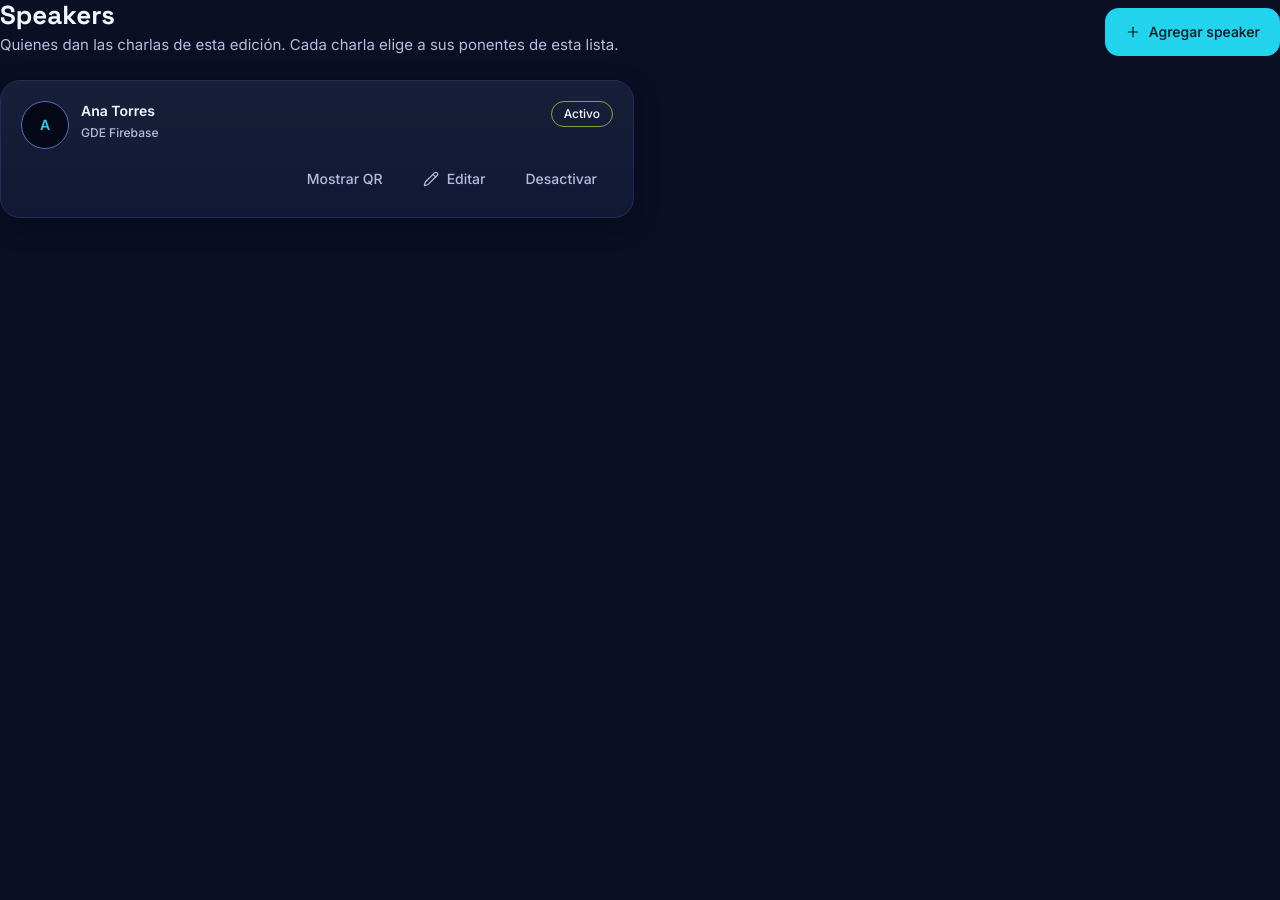
Test: SpeakersAdminView › edits a speaker keeping the photo untouched, and shows a refusal inside the dialog
The image size is (1280, 900).
What coordinates should you click on to do the following:
click the button "Editar"
I would click on:
 (454, 179)
Its box is [407,161,502,197].
(page scrolled)
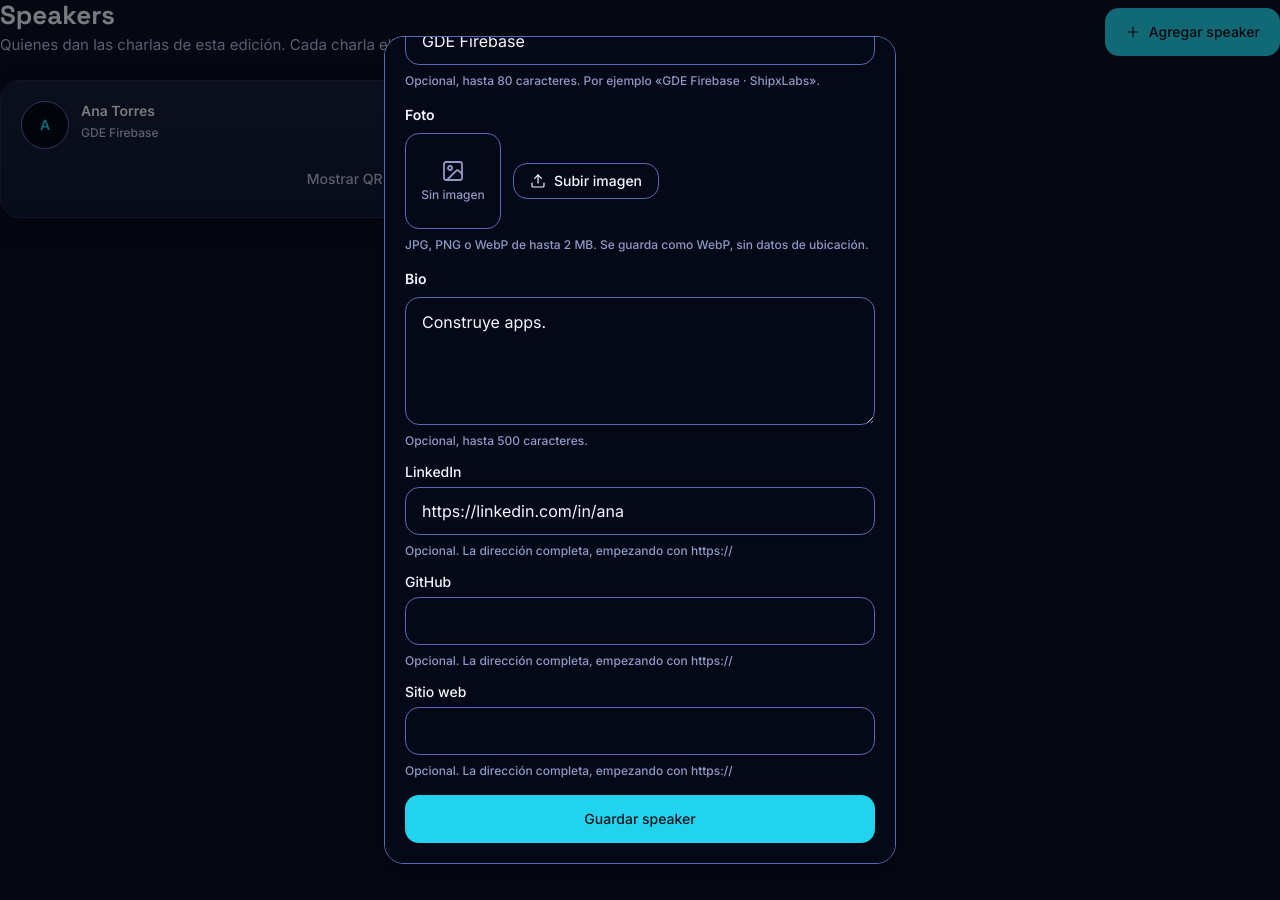
What coordinates should you click on to do the following:
click the button "Guardar speaker"
I would click on:
 (640, 819)
Its box is [405,795,875,843].
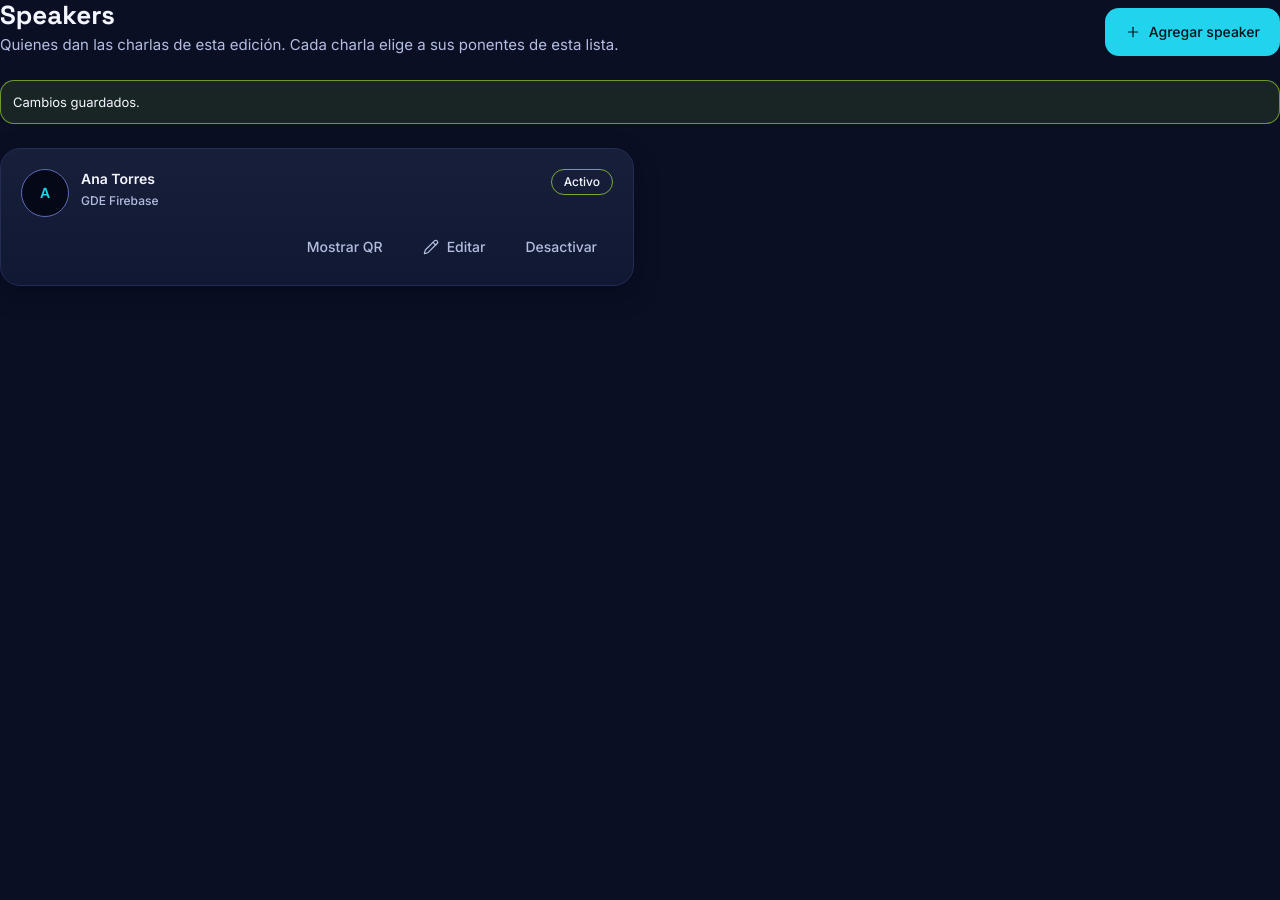
What coordinates should you click on to do the following:
click the button "Editar"
I would click on:
 (454, 247)
Its box is [407,229,502,265].
(page scrolled)
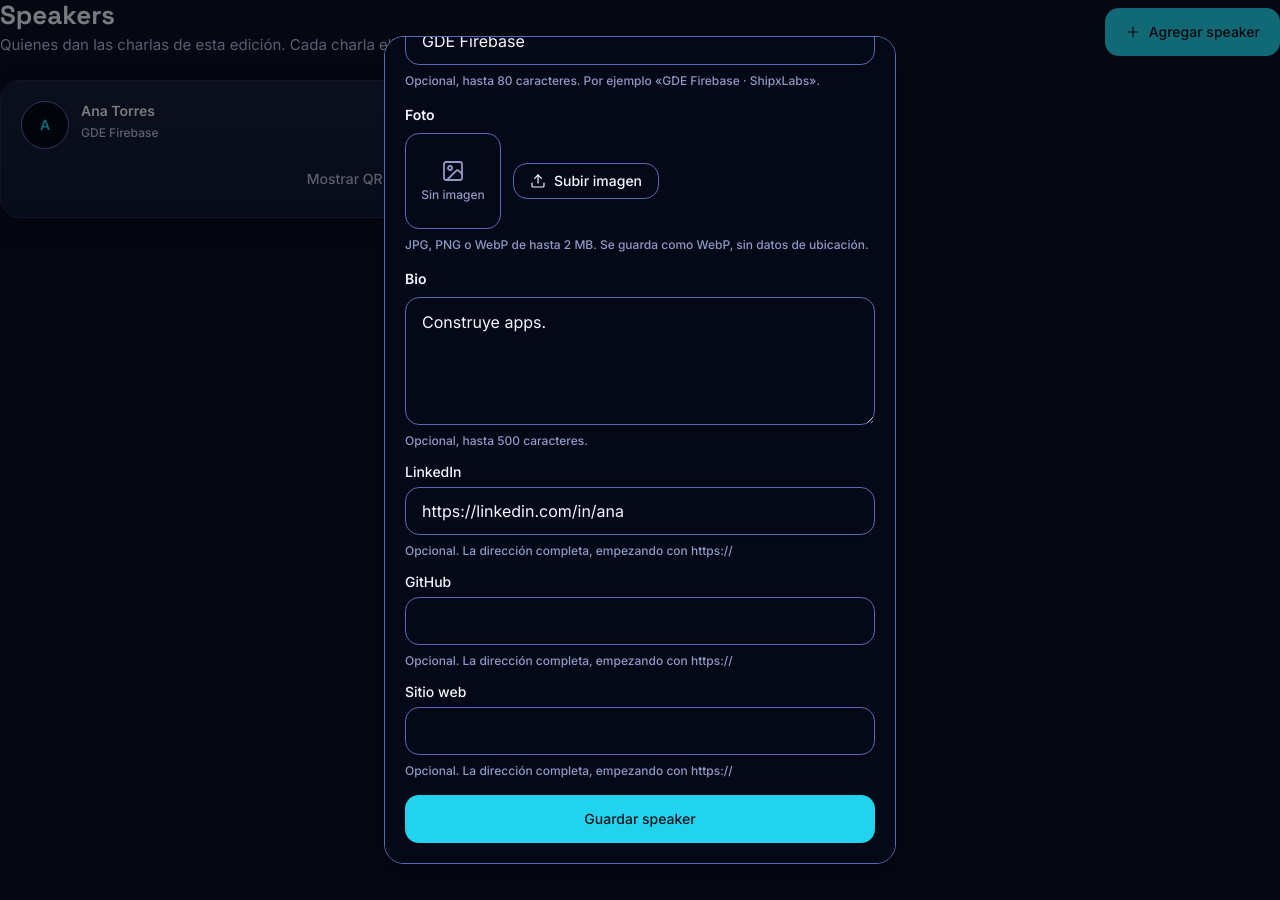
What coordinates should you click on to do the following:
click the button "Guardar speaker"
I would click on:
 (640, 819)
Its box is [405,795,875,843].
(page scrolled)
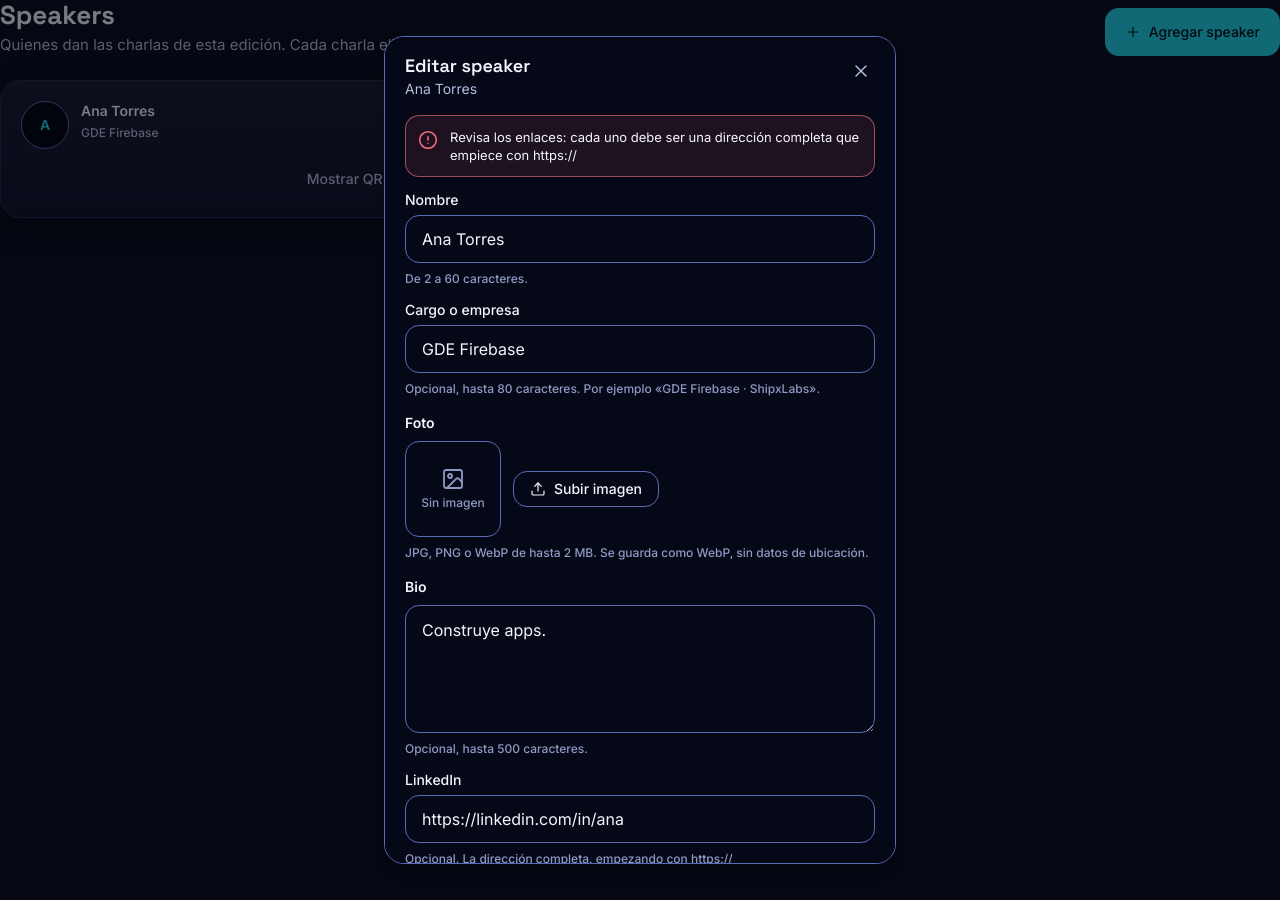
Expected: the message shows "Revisa los enlaces: cada uno debe ser una dirección completa que empiece con https://", [450,129,859,163]
